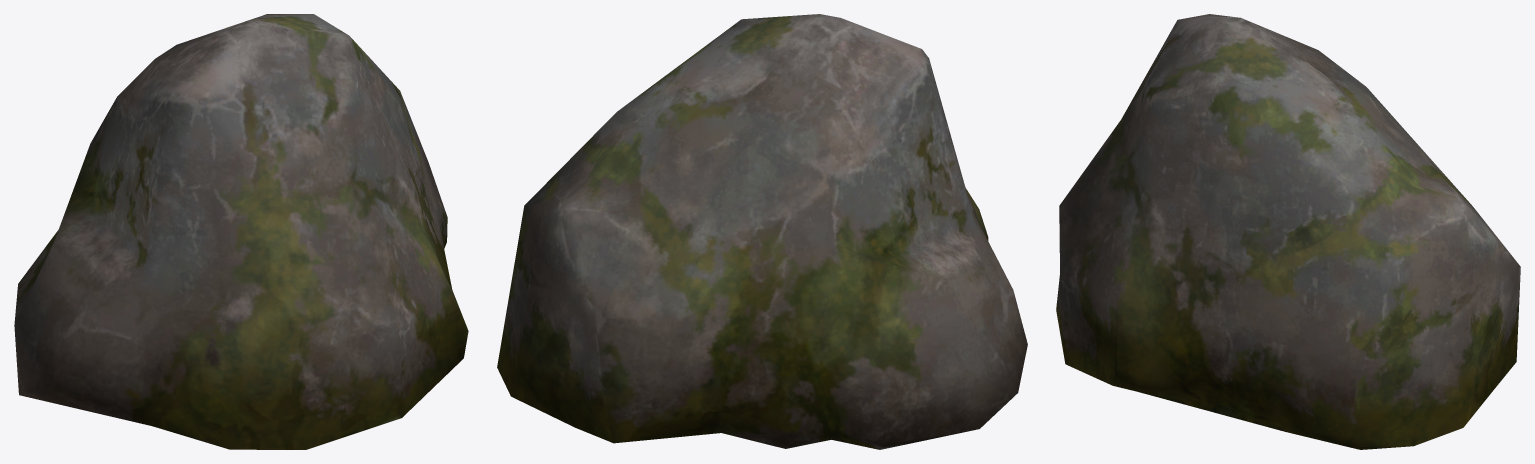
File: Rock2.fbx
The picture shows the model from 3 angles, left to right: view 1: azimuth 30°, elevation 25°; view 2: azimuth 150°, elevation 25°; view 3: azimuth 270°, elevation 25°; orthographic projection. The views are drawn at different scales.
Parts seen in each view (by area): view 1: SM_d_109_Rock_02a; view 2: SM_d_109_Rock_02a; view 3: SM_d_109_Rock_02a.
Boxes of the visible parts, left/top/right/bottom form: SM_d_109_Rock_02a: left=14, top=14, right=468, bottom=449; SM_d_109_Rock_02a: left=497, top=14, right=1027, bottom=449; SM_d_109_Rock_02a: left=1056, top=14, right=1520, bottom=449.
Size of the model in its own units: 479 by 345 by 445.
